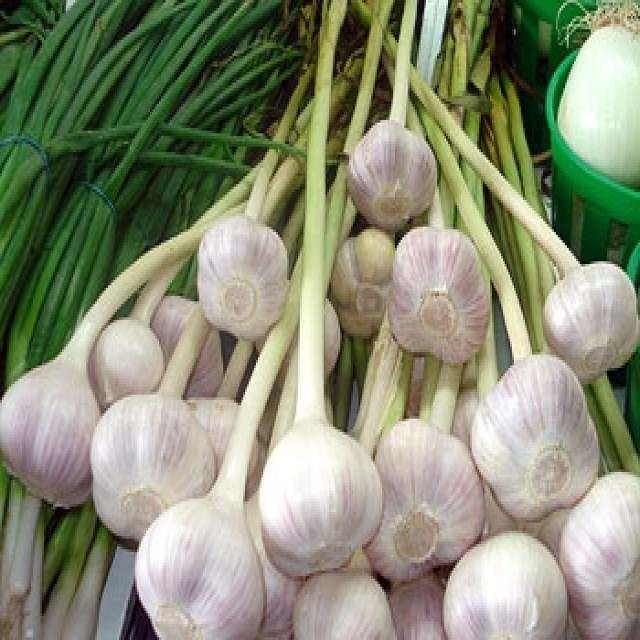garlic: (0, 170, 253, 506), (259, 0, 383, 575), (135, 255, 302, 638), (91, 304, 215, 540), (471, 355, 599, 520), (367, 419, 484, 582), (444, 532, 567, 638), (197, 213, 287, 340)
